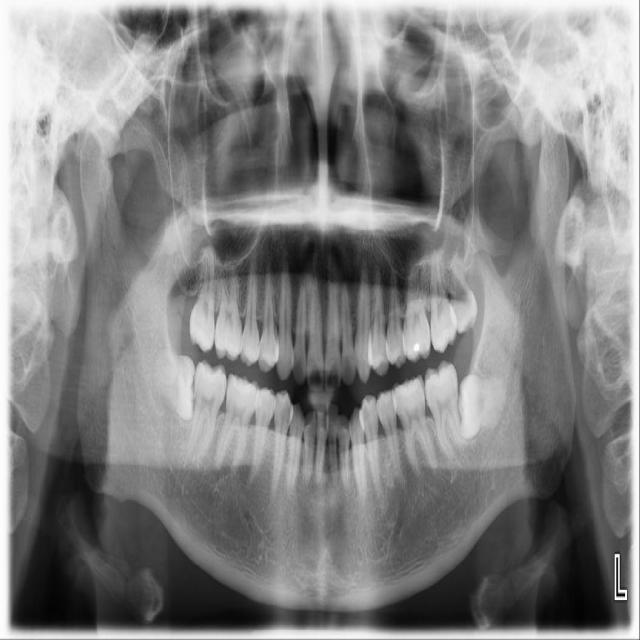Filling: (412, 344, 421, 355)
impacted tooth: (137, 357, 195, 419), (460, 374, 508, 435)
